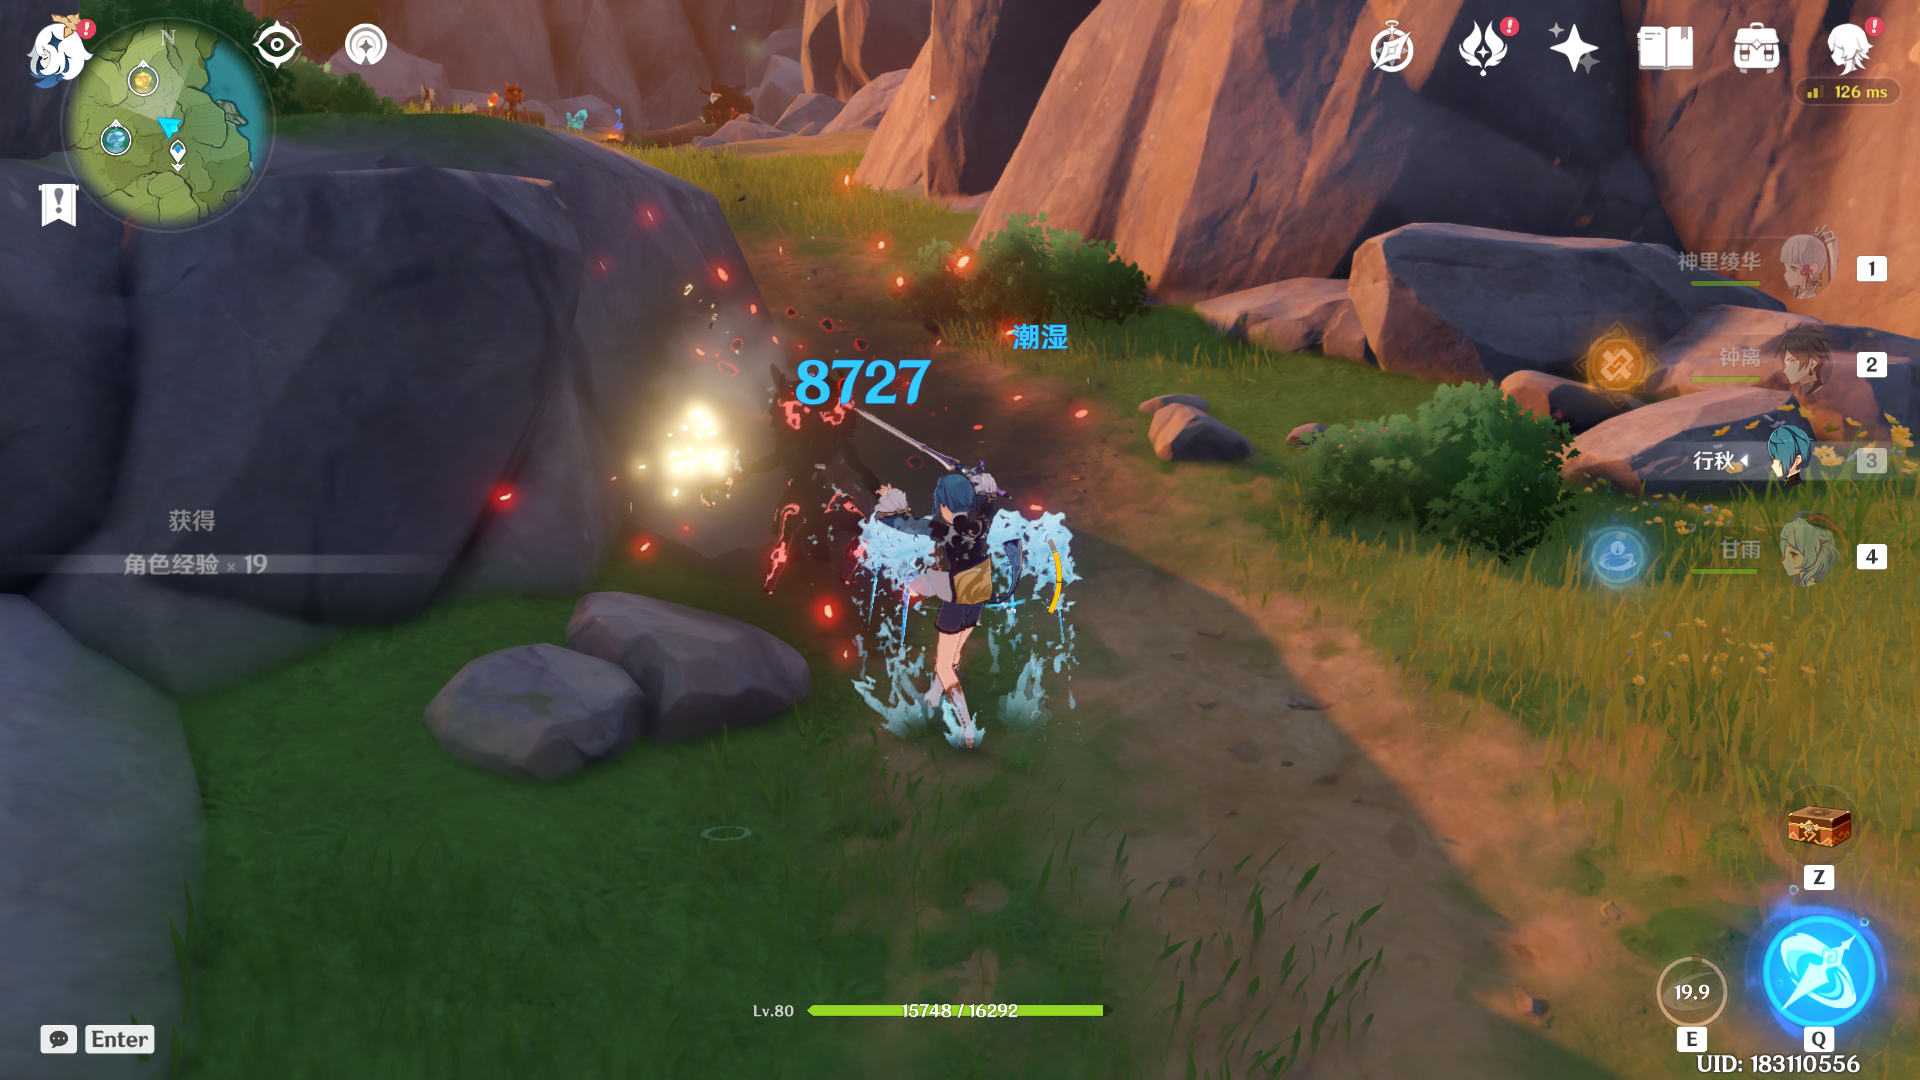bighili: (680, 75, 777, 144)
character: (829, 444, 1077, 775)
